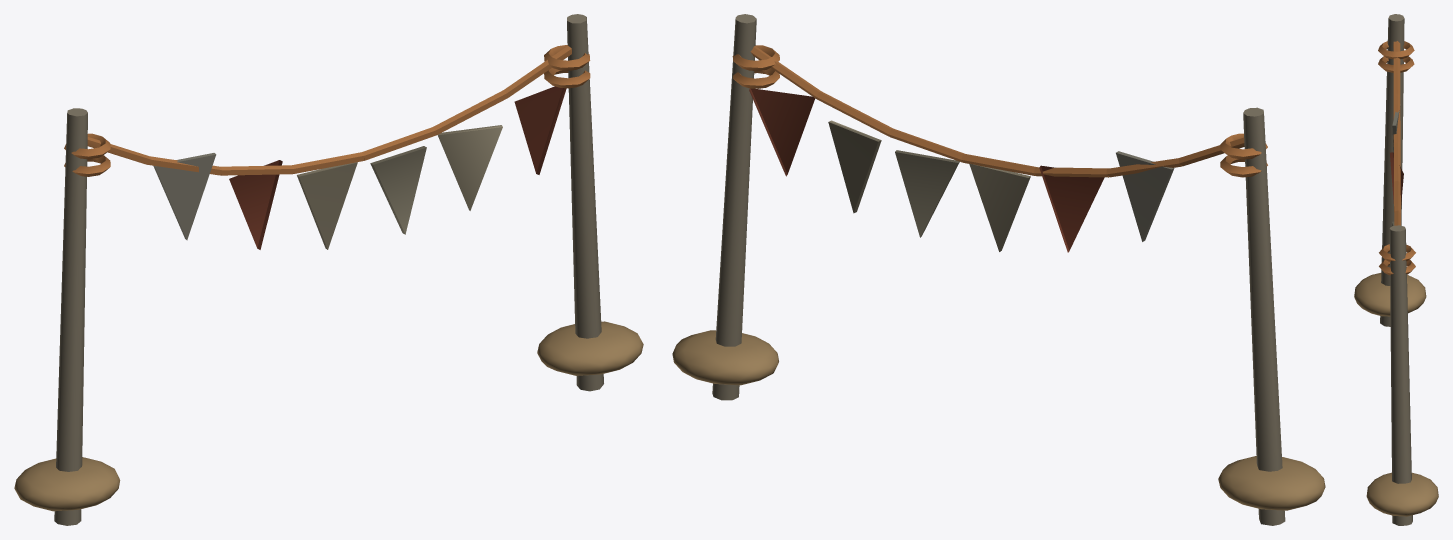
The model's file is keeper_bunting_b_lod2.glb.
The picture shows the model from 3 angles, left to right: view 1: azimuth 30°, elevation 25°; view 2: azimuth 150°, elevation 25°; view 3: azimuth 270°, elevation 25°; orthographic projection. The views are drawn at different scales.
Visible parts, largest first — view 1: Surface.001; view 2: Surface.001; view 3: Surface.001.
Part boxes in pixels (x1,y1,x2,y2): Surface.001: (14, 14, 643, 525); Surface.001: (672, 14, 1325, 525); Surface.001: (1354, 14, 1438, 525).
Size of the model in its own units: 4.47 by 2.76 by 0.6814.
